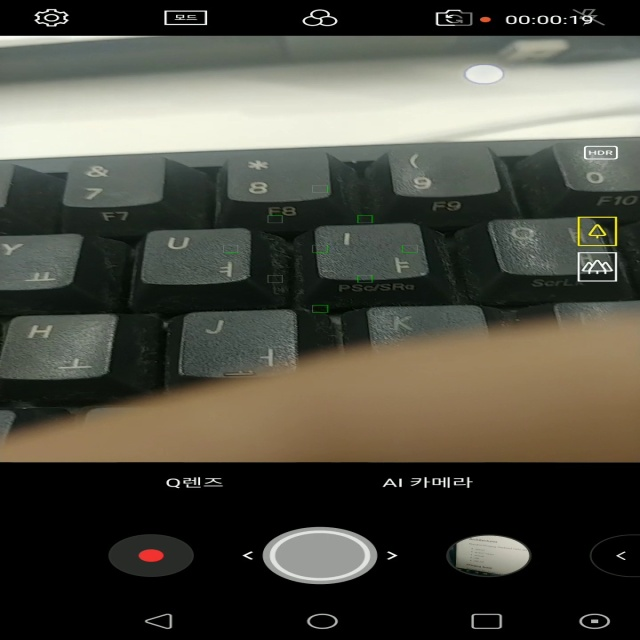Cursor: (463, 64, 507, 86)
